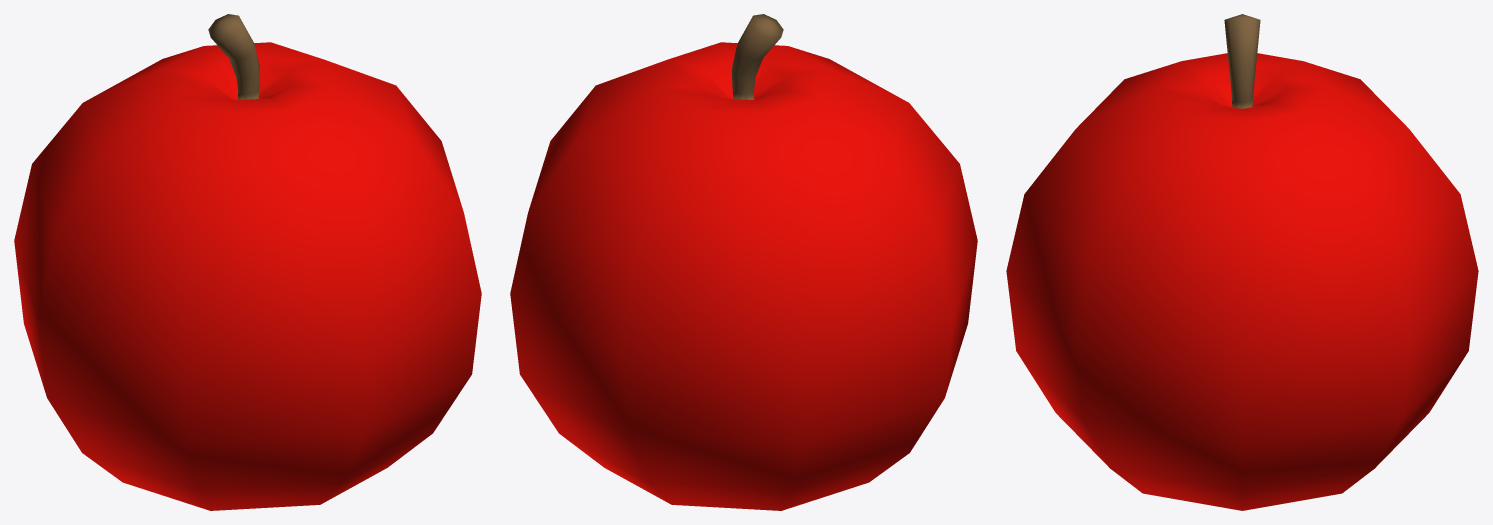
File: apple.glb
The picture shows the model from 3 angles, left to right: view 1: azimuth 30°, elevation 25°; view 2: azimuth 150°, elevation 25°; view 3: azimuth 270°, elevation 25°; orthographic projection. The views are drawn at different scales.
Visible parts, largest first — view 1: apple; view 2: apple; view 3: apple.
Boxes of the visible parts, x1,y1,x2,y2 form: apple: [14, 14, 481, 510]; apple: [510, 14, 977, 510]; apple: [1006, 14, 1478, 510].
Bounding box in the file's own units: 0.1601 × 0.1682 × 0.1601.
